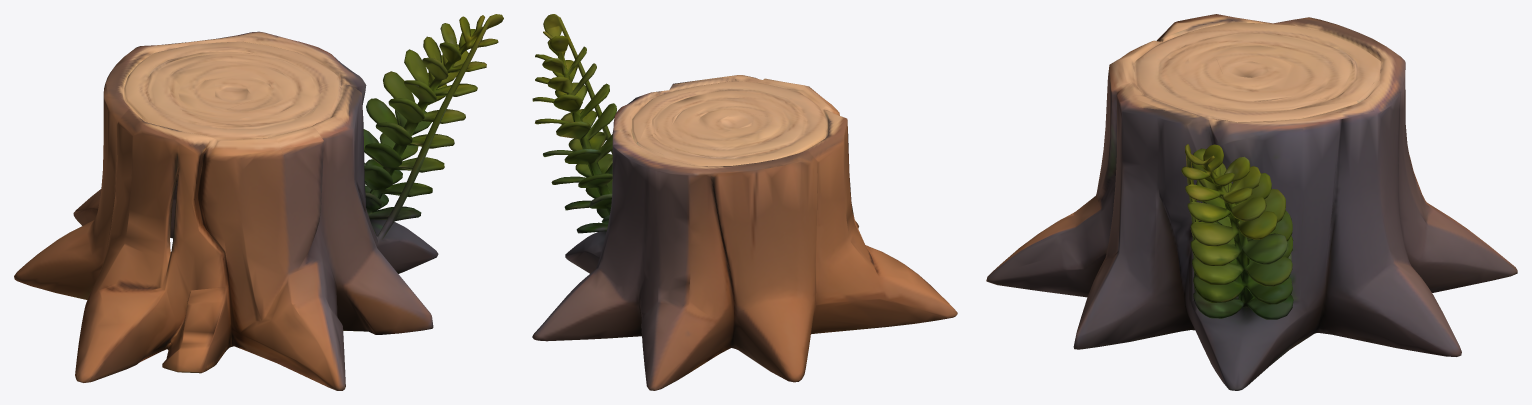
Rendered from stump.fbx.
3 renders of one model, left to right at view 1: azimuth 30°, elevation 25°; view 2: azimuth 150°, elevation 25°; view 3: azimuth 270°, elevation 25°, orthographic. The views are drawn at different scales.
Parts seen in each view (by area): view 1: stump; view 2: stump; view 3: stump.
Part boxes in pixels (x1=…): stump: x1=14, y1=14, x2=503, y2=390; stump: x1=532, y1=14, x2=957, y2=390; stump: x1=986, y1=14, x2=1517, y2=390.
Size of the model in its own units: 43.19 by 23 by 41.76.
Materials: 1 (1 with a texture image).
